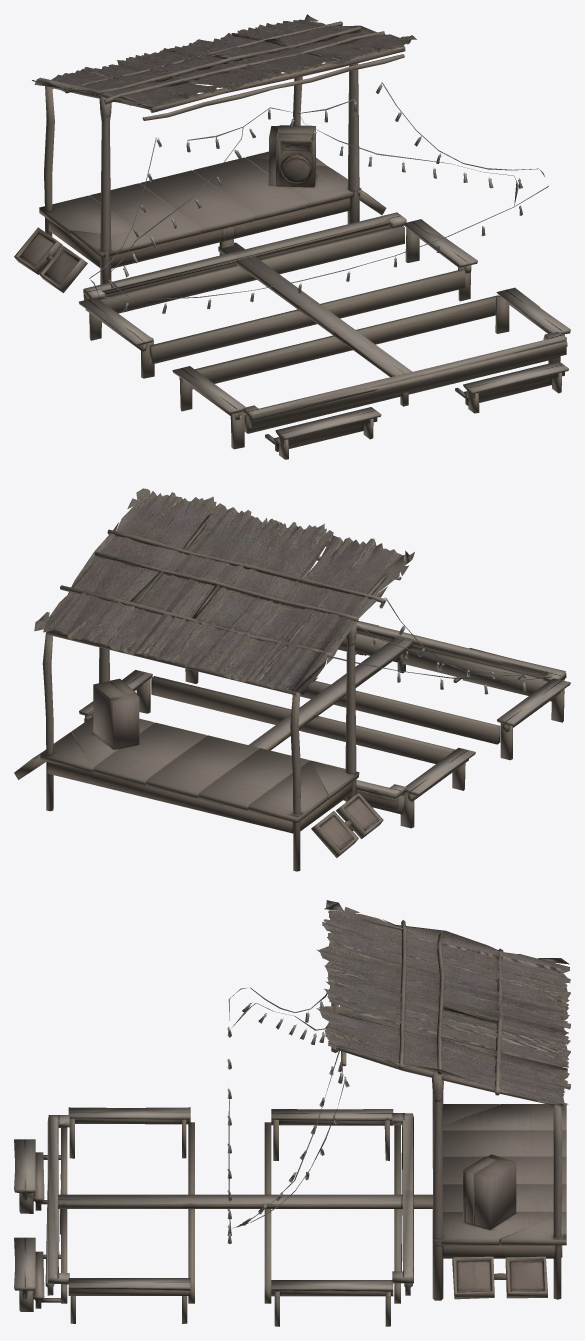
File: sertao_palhoca_forro.glb
The picture shows the model from 3 angles, top to bottom: view 1: azimuth 30°, elevation 25°; view 2: azimuth 150°, elevation 25°; view 3: azimuth 270°, elevation 25°; orthographic projection. The views are drawn at different scales.
Visible parts, largest first — view 1: Rustic Palapa Dance Stage; view 2: Rustic Palapa Dance Stage; view 3: Rustic Palapa Dance Stage.
Boxes of the visible parts, x1,y1,x2,y2 form: Rustic Palapa Dance Stage: (14, 14, 570, 459); Rustic Palapa Dance Stage: (14, 488, 570, 871); Rustic Palapa Dance Stage: (14, 900, 570, 1326).
Size of the model in its own units: 0.998 by 0.5332 by 0.998.
1 material, 1 textured.
